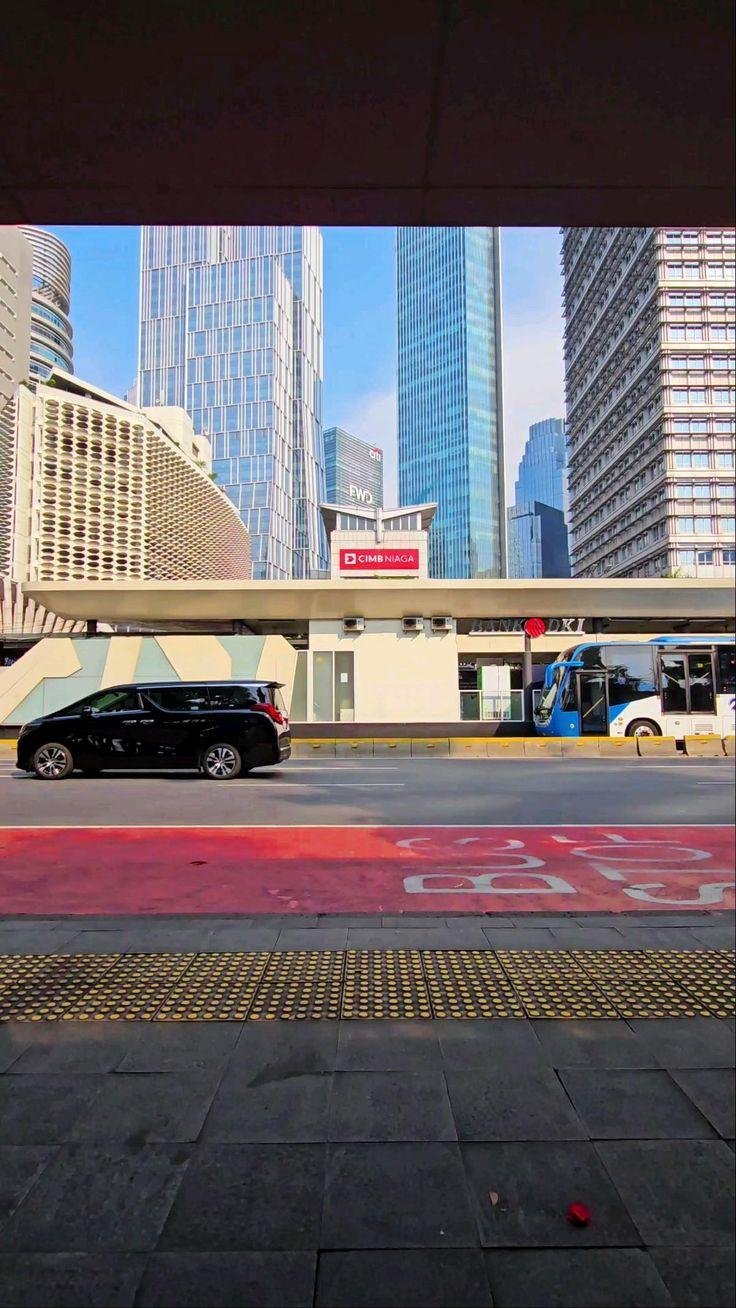mobil: (14, 677, 292, 780)
transjakarta: (532, 632, 734, 739)
